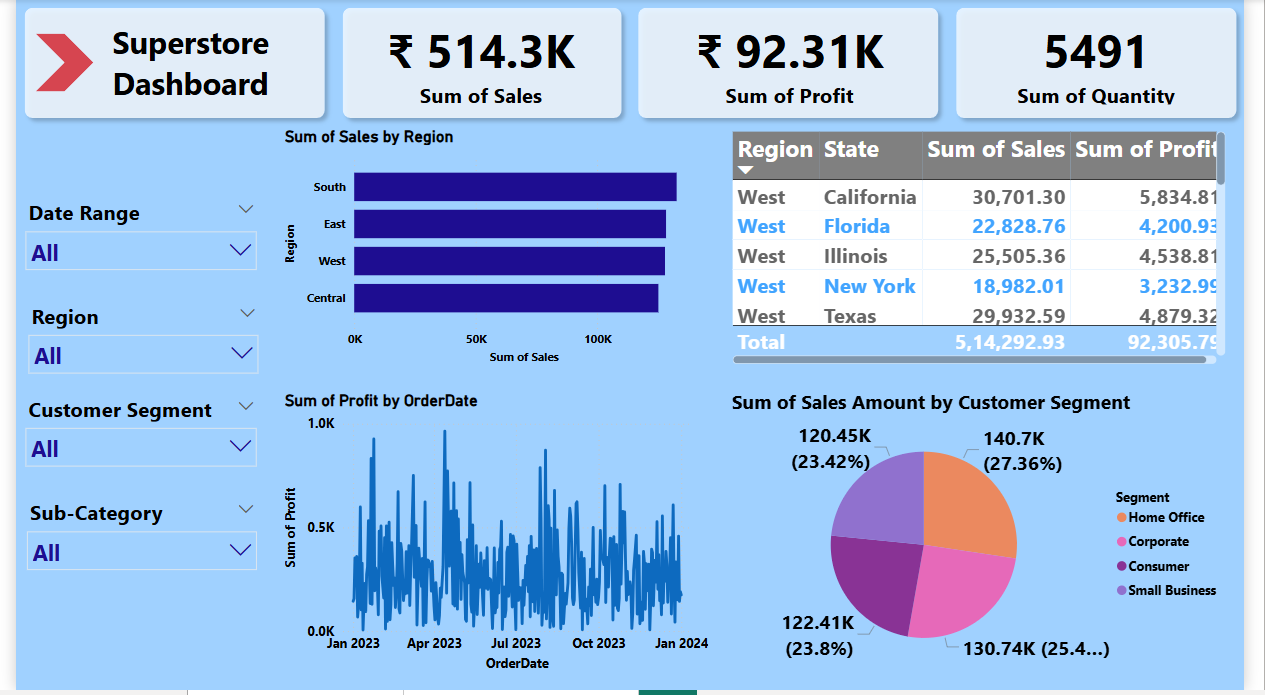

Layout of this report page (visuals, bound fields, positions):
{"tool":"powerbi","page":{"name":"Superstore Analysis 2","canvas":[1280,720],"ordinal":1},"visuals":[{"type":"shape","box":[0,0,330.7,133.1],"z":0},{"type":"shape","box":[330.7,0,308.7,133.1],"z":1000},{"type":"shape","box":[639.5,0,330.7,133.1],"z":2000},{"type":"shape","box":[970.2,0,310.1,133.1],"z":3000},{"type":"textbox","box":[96.1,16.5,223.7,97.4],"z":4000},{"type":"shape","box":[20.6,35.7,60.4,60.4],"z":5000},{"type":"card","fields":{"Values":["All Measures.Sum of Sales"]},"box":[343.1,16.5,284,97.4],"z":6000},{"type":"card","fields":{"Values":["All Measures.Sum of Profit"]},"box":[655.9,16.5,299.1,97.4],"z":7000},{"type":"card","fields":{"Values":["All Measures.Sum of Quantity"]},"box":[986.6,16.5,278.6,97.4],"z":8000},{"type":"slicer","fields":{"Values":["Sheet1.Region"]},"box":[2.7,308.7,259.3,101.5],"z":9000},{"type":"slicer","fields":{"Values":["Sheet1.Customer Segment"]},"box":[0,406.2,260.7,108.4],"z":10000},{"type":"slicer","fields":{"Values":["Sheet1.Sub-Category"]},"box":[1.4,514.6,259.3,90.6],"z":11000},{"type":"slicer","fields":{"Values":["Sheet1.Month Name"]},"box":[0,201.7,260.7,102.9],"z":12000},{"type":"clusteredBarChart","fields":{"Y":["All Measures.Sum of Sales"],"Category":["Sheet1.Region"]},"box":[274.4,133.1,451.5,252.5],"z":13000},{"type":"tableEx","fields":{"Values":["Sheet1.Region","Sheet1.State","All Measures.Sum of Sales","All Measures.Sum of Profit"]},"box":[741,133.1,524.2,252.5],"z":14000},{"type":"pieChart","fields":{"Category":["Sheet1.Customer Segment"],"Y":["Sum(Sheet1.Sales Amount)"]},"box":[741,406.2,524.2,297.8],"z":15000},{"type":"lineChart","title":"Sum of Profit by OrderDate","fields":{"Category":["Sheet1.Order Date.Variation.Date Hierarchy.Year","Sheet1.Order Date.Variation.Date Hierarchy.Quarter","Sheet1.Order Date.Variation.Date Hierarchy.Month","Sheet1.Order Date.Variation.Date Hierarchy.Day"],"Y":["All Measures.Sum of Profit"]},"box":[274.4,407.5,451.5,297.8],"z":16000}]}

Visuals, with their boxes in screenshot pixels (x1, y1, x2, y2), scaled from the page's 1280x720 canvas onto the 1265x695 screenshot:
shape: l=0, t=0, r=327, b=128
shape: l=327, t=0, r=632, b=128
shape: l=632, t=0, r=959, b=128
shape: l=959, t=0, r=1264, b=128
textbox: l=95, t=16, r=316, b=110
shape: l=20, t=34, r=80, b=93
card - All Measures.Sum of Sales: l=339, t=16, r=620, b=110
card - All Measures.Sum of Profit: l=648, t=16, r=944, b=110
card - All Measures.Sum of Quantity: l=975, t=16, r=1250, b=110
slicer - Sheet1.Region: l=3, t=298, r=259, b=396
slicer - Sheet1.Customer Segment: l=0, t=392, r=258, b=497
slicer - Sheet1.Sub-Category: l=1, t=497, r=258, b=584
slicer - Sheet1.Month Name: l=0, t=195, r=258, b=294
clusteredBarChart - All Measures.Sum of Sales x Sheet1.Region: l=271, t=128, r=717, b=372
tableEx - Sheet1.Region x Sheet1.State: l=732, t=128, r=1250, b=372
pieChart - Sheet1.Customer Segment x Sum(Sheet1.Sales Amount): l=732, t=392, r=1250, b=680
"Sum of Profit by OrderDate" lineChart: l=271, t=393, r=717, b=681
